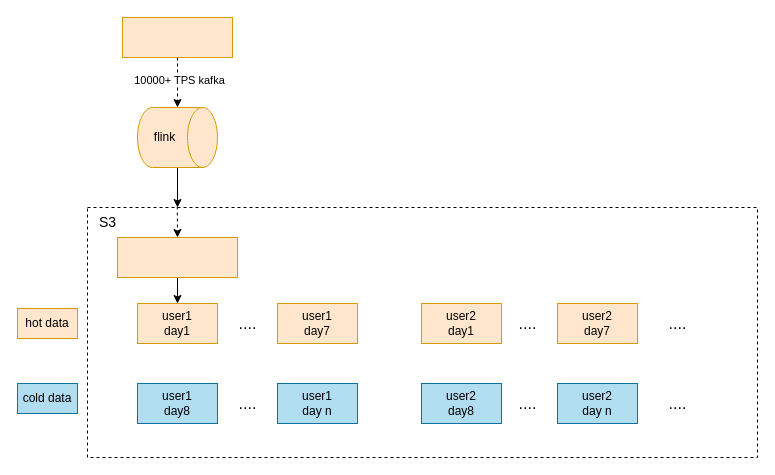
The diagram is 775 pixels wide and 475 high, and some of its shapes have lost their labels. Here are the shapes that lost their labels. From the top down, the centre of each, then its label:
the point at 177,37: gateway
the point at 177,257: s3 lambda: merge user data to one day
